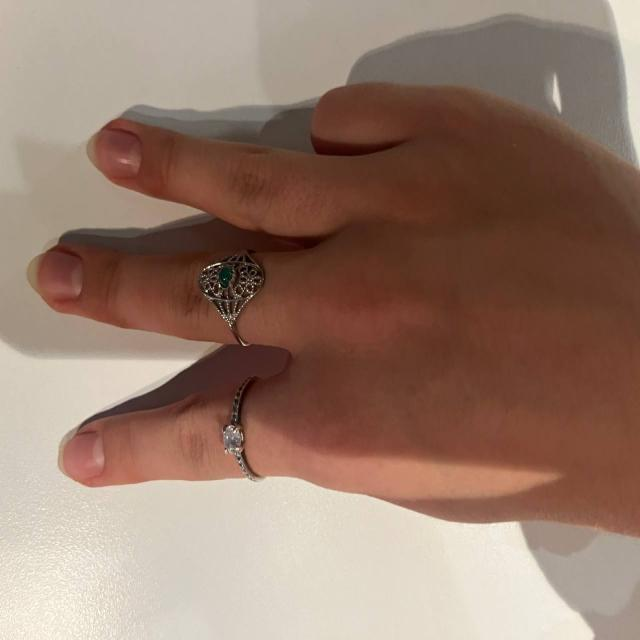m: (25, 65, 605, 553)
